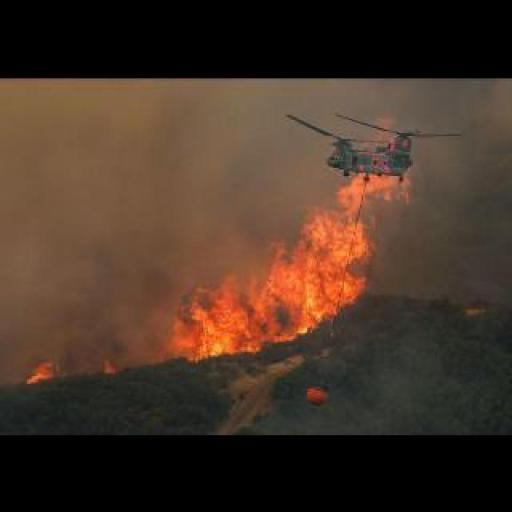smoke: (160, 168, 413, 365), (24, 358, 61, 386), (101, 357, 117, 374)
